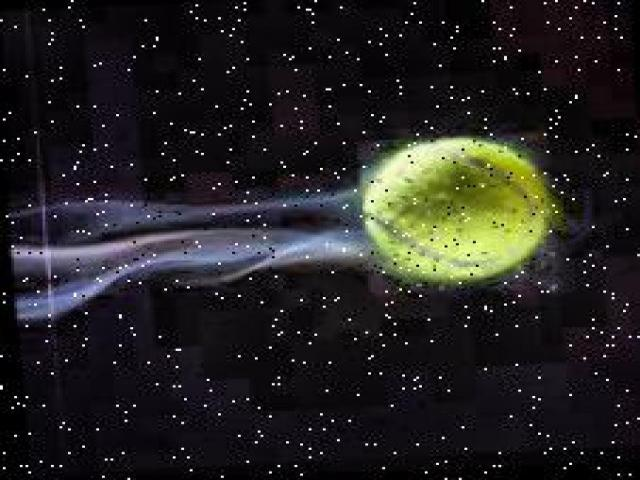tennis-ball: (363, 139, 553, 284)
